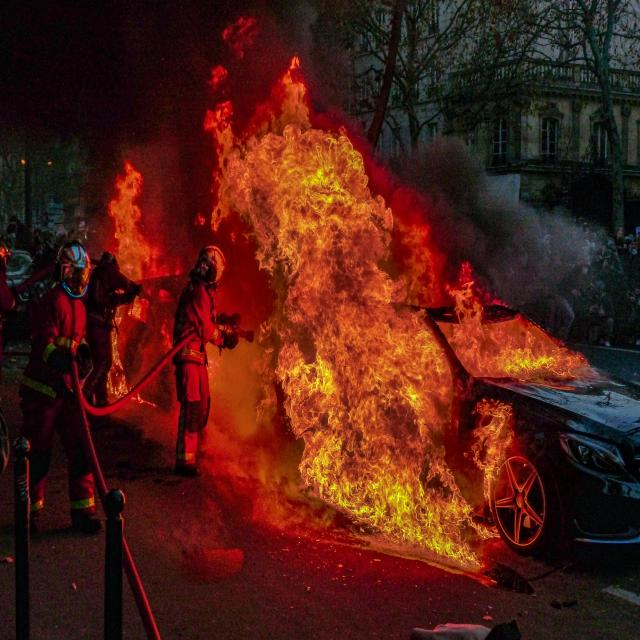fire: (254, 125, 445, 562), (210, 22, 316, 242), (448, 262, 592, 386), (438, 400, 511, 586), (102, 157, 184, 274), (108, 298, 174, 411)
